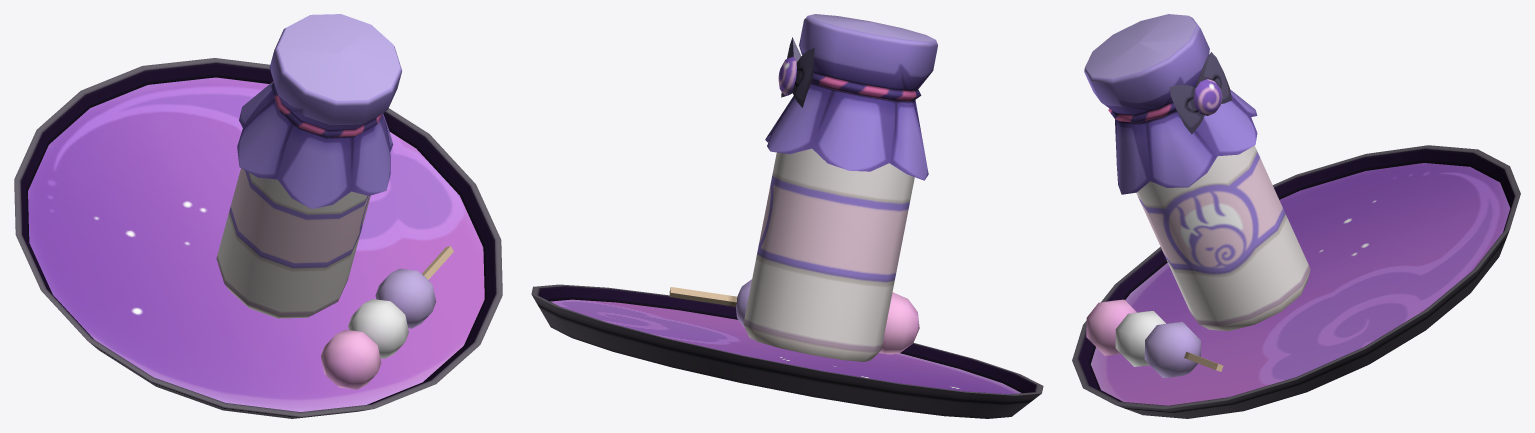
The model's file is Tray.glb.
The picture shows the model from 3 angles, left to right: view 1: azimuth 30°, elevation 25°; view 2: azimuth 150°, elevation 25°; view 3: azimuth 270°, elevation 25°; orthographic projection. The views are drawn at different scales.
Visible parts, largest first — view 1: SkillObj_Mizuki_Tray_LOD0; view 2: SkillObj_Mizuki_Tray_LOD0; view 3: SkillObj_Mizuki_Tray_LOD0.
Part boxes in pixels (left/top/right/bottom): SkillObj_Mizuki_Tray_LOD0: left=14, top=14, right=502, bottom=418; SkillObj_Mizuki_Tray_LOD0: left=531, top=14, right=1043, bottom=418; SkillObj_Mizuki_Tray_LOD0: left=1072, top=14, right=1520, bottom=418.
Bounding box in the file's own units: 0.3266 × 0.2595 × 0.3022.
1 material, 1 textured.
